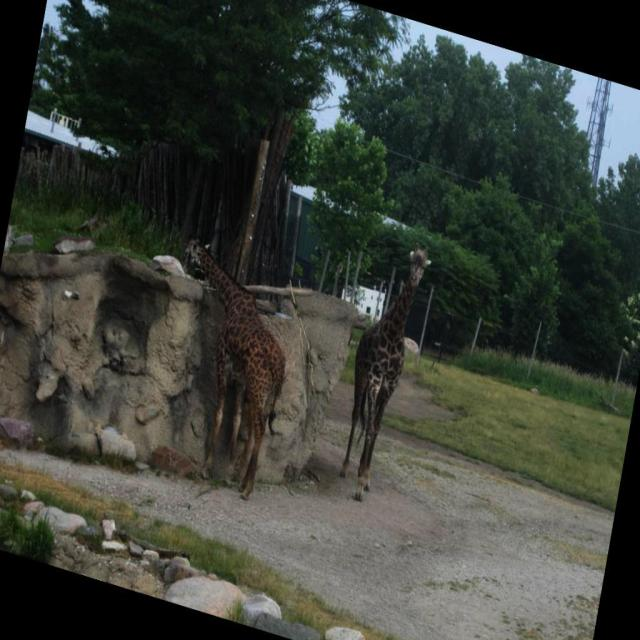Giraffe: (335, 236, 437, 501)
